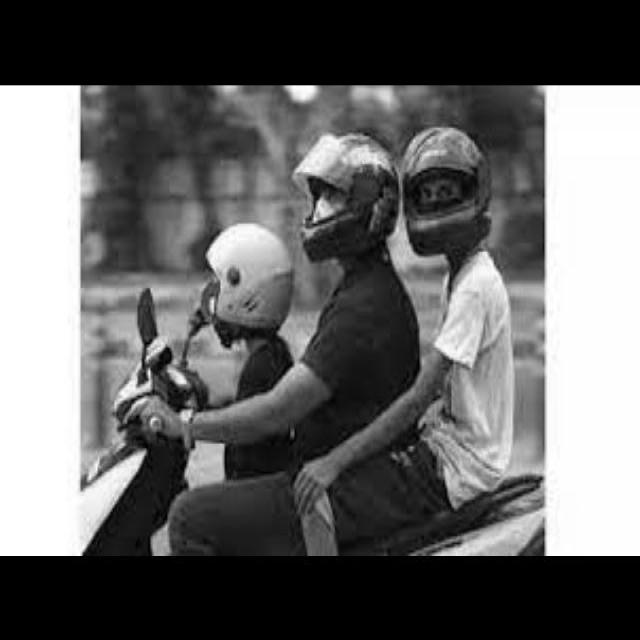5_casco: (290, 127, 400, 265)
